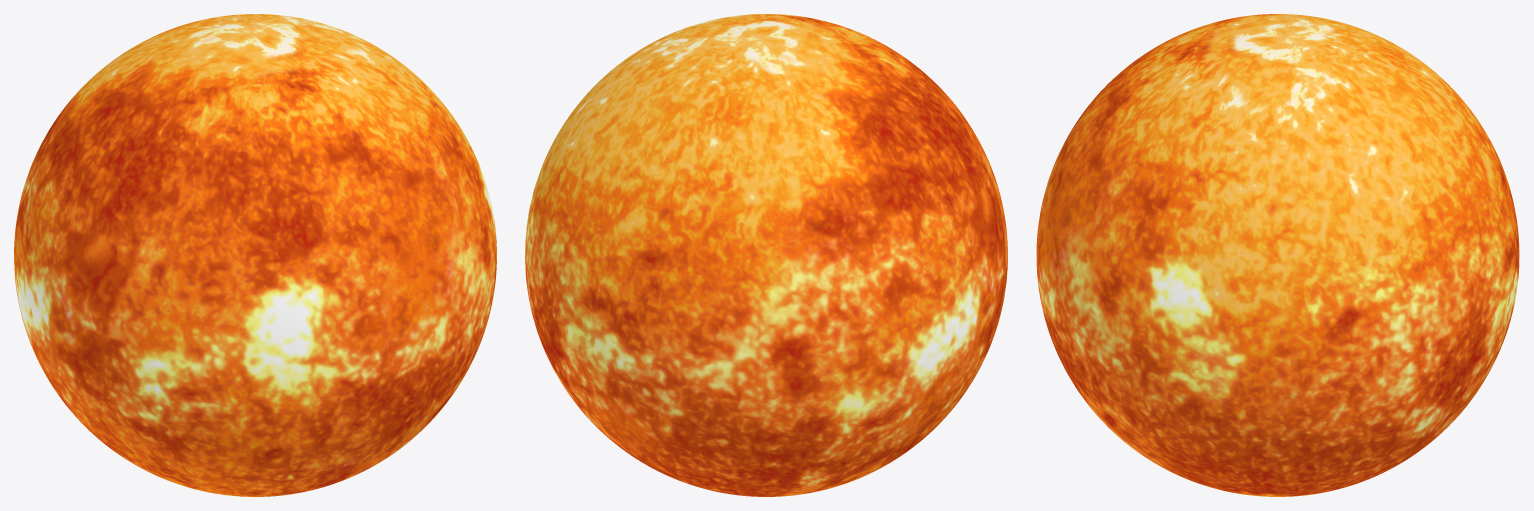
Rendered from soleil.glb.
3 renders of one model, left to right at view 1: azimuth 30°, elevation 25°; view 2: azimuth 150°, elevation 25°; view 3: azimuth 270°, elevation 25°, orthographic.
Parts seen in each view (by area): view 1: pSphere1; view 2: pSphere1; view 3: pSphere1.
Part boxes in pixels (x1,y1,x2,y2): pSphere1: (14,14,496,496); pSphere1: (525,14,1007,496); pSphere1: (1036,14,1519,496).
Size of the model in its own units: 0.1059 by 0.1059 by 0.1059.
Materials: 1 (1 with a texture image).
